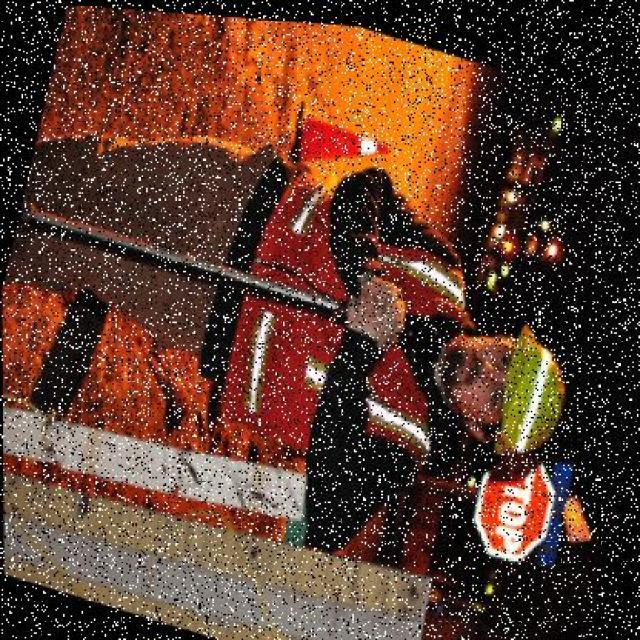helmet: (474, 308, 580, 464)
vest: (203, 166, 487, 494)
